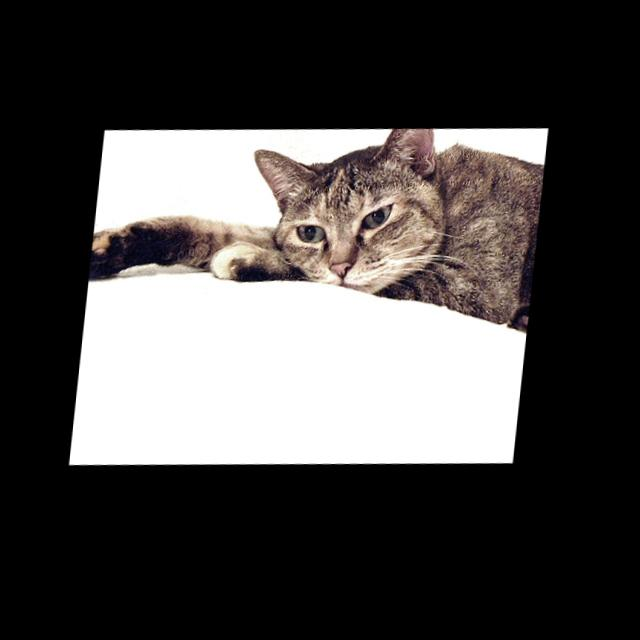animals: (245, 123, 438, 292)
